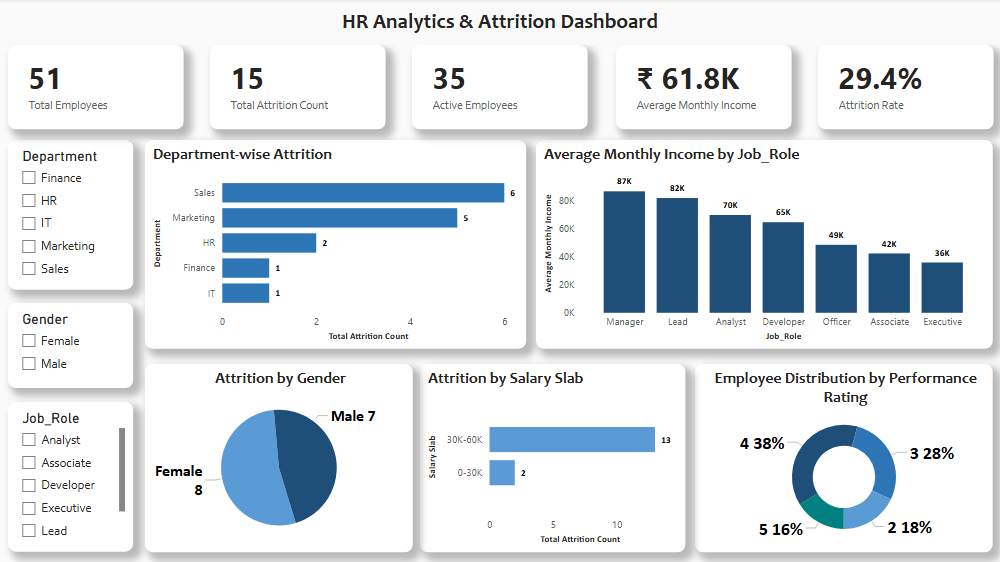

What the dashboard file says about the page in this screenshot:
{"tool":"powerbi","page":{"name":"Page 1","canvas":[1280,720],"ordinal":0},"visuals":[{"type":"slicer","fields":{"Values":["Data_Cleaning.Department"]},"box":[14.8,179.7,158.9,190.1],"z":0},{"type":"slicer","fields":{"Values":["Data_Cleaning.Gender"]},"box":[14.8,386.1,158.9,108.4],"z":1000},{"type":"slicer","fields":{"Values":["Data_Cleaning.Job_Role"]},"box":[14.8,512.3,158.9,190.1],"z":2000},{"type":"cardVisual","fields":{"Data":["Data_Cleaning.Attrition Rate"]},"box":[1043.9,57.9,222.7,106.9],"z":3000},{"type":"cardVisual","fields":{"Data":["Data_Cleaning.Total Attrition Count"]},"box":[271.7,57.9,222.7,106.9],"z":4000},{"type":"cardVisual","fields":{"Data":["Data_Cleaning.Total Employees"]},"box":[14.8,57.9,222.7,106.9],"z":5000},{"type":"cardVisual","fields":{"Data":["Data_Cleaning.Average Monthly Income"]},"box":[787,57.9,222.7,106.9],"z":6000},{"type":"clusteredBarChart","title":"Department-wise Attrition","fields":{"Category":["Data_Cleaning.Department"],"Y":["Data_Cleaning.Total Attrition Count"]},"box":[189.2,179,483.8,265.4],"z":7000},{"type":"clusteredColumnChart","fields":{"Category":["Data_Cleaning.Job_Role"],"Y":["Data_Cleaning.Average Monthly Income"]},"box":[685.7,179,580.3,265.4],"z":8000},{"type":"donutChart","title":"Employee Distribution by Performance Rating","fields":{"Category":["Data_Cleaning.Performance_Rating"],"Y":["CountNonNull(Data_Cleaning.Employee_ID)"]},"box":[887.6,463.5,378.4,238.7],"z":9000},{"type":"clusteredBarChart","title":"Attrition by Salary Slab","fields":{"Category":["Data_Cleaning.Salary Slab"],"Y":["Data_Cleaning.Total Attrition Count"]},"box":[538.4,463.5,336.5,238.7],"z":10000},{"type":"pieChart","title":"Attrition by Gender","fields":{"Category":["Data_Cleaning.Gender"],"Y":["Data_Cleaning.Total Attrition Count"]},"box":[188.6,463.3,340,239.1],"z":11000},{"type":"cardVisual","fields":{"Data":["Data_Cleaning.Active Employees"]},"box":[528.6,57.9,222.7,106.9],"z":12000},{"type":"textbox","box":[0,0,1280,58.4],"z":13000}]}

Visuals, with their boxes in screenshot pixels (x1, y1, x2, y2), scaled from the page's 1280x720 canvas onto the 1000x562 screenshot:
slicer - Data_Cleaning.Department: (x1=12, y1=140, x2=136, y2=289)
slicer - Data_Cleaning.Gender: (x1=12, y1=301, x2=136, y2=386)
slicer - Data_Cleaning.Job_Role: (x1=12, y1=400, x2=136, y2=548)
cardVisual - Data_Cleaning.Attrition Rate: (x1=816, y1=45, x2=990, y2=129)
cardVisual - Data_Cleaning.Total Attrition Count: (x1=212, y1=45, x2=386, y2=129)
cardVisual - Data_Cleaning.Total Employees: (x1=12, y1=45, x2=186, y2=129)
cardVisual - Data_Cleaning.Average Monthly Income: (x1=615, y1=45, x2=789, y2=129)
"Department-wise Attrition" clusteredBarChart: (x1=148, y1=140, x2=526, y2=347)
clusteredColumnChart - Data_Cleaning.Job_Role x Data_Cleaning.Average Monthly Income: (x1=536, y1=140, x2=989, y2=347)
"Employee Distribution by Performance Rating" donutChart: (x1=693, y1=362, x2=989, y2=548)
"Attrition by Salary Slab" clusteredBarChart: (x1=421, y1=362, x2=684, y2=548)
"Attrition by Gender" pieChart: (x1=147, y1=362, x2=413, y2=548)
cardVisual - Data_Cleaning.Active Employees: (x1=413, y1=45, x2=587, y2=129)
textbox: (x1=0, y1=0, x2=999, y2=46)
